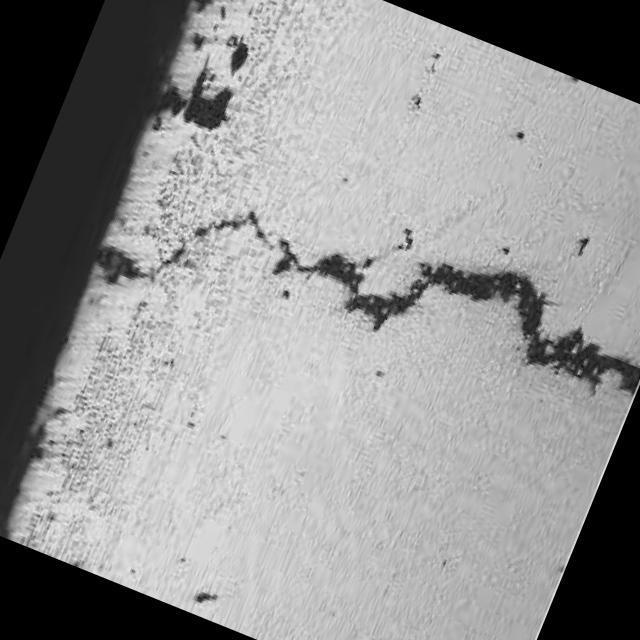defect: (146, 204, 640, 412)
